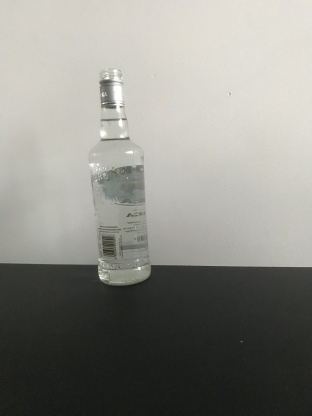nakretka: (96, 66, 126, 109)
